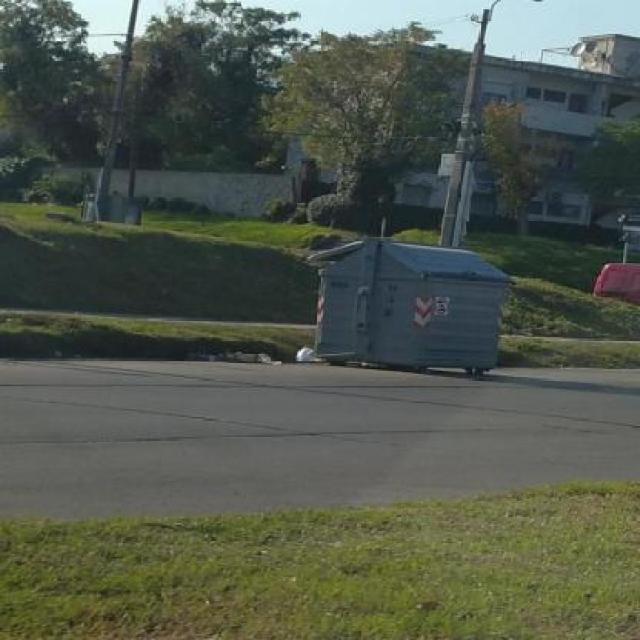garbage: (188, 342, 314, 369)
